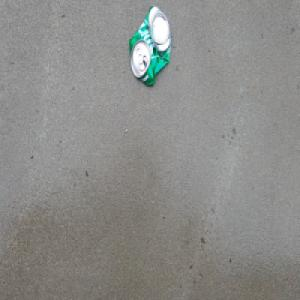SodaCan: (128, 5, 172, 88)
